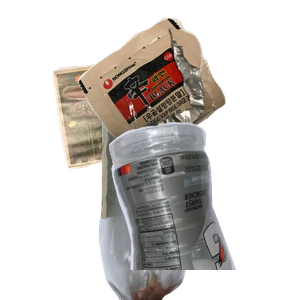glass: (96, 120, 283, 300)
paper: (49, 51, 235, 212)
plastic: (106, 120, 300, 300)
trash: (76, 15, 300, 145)
